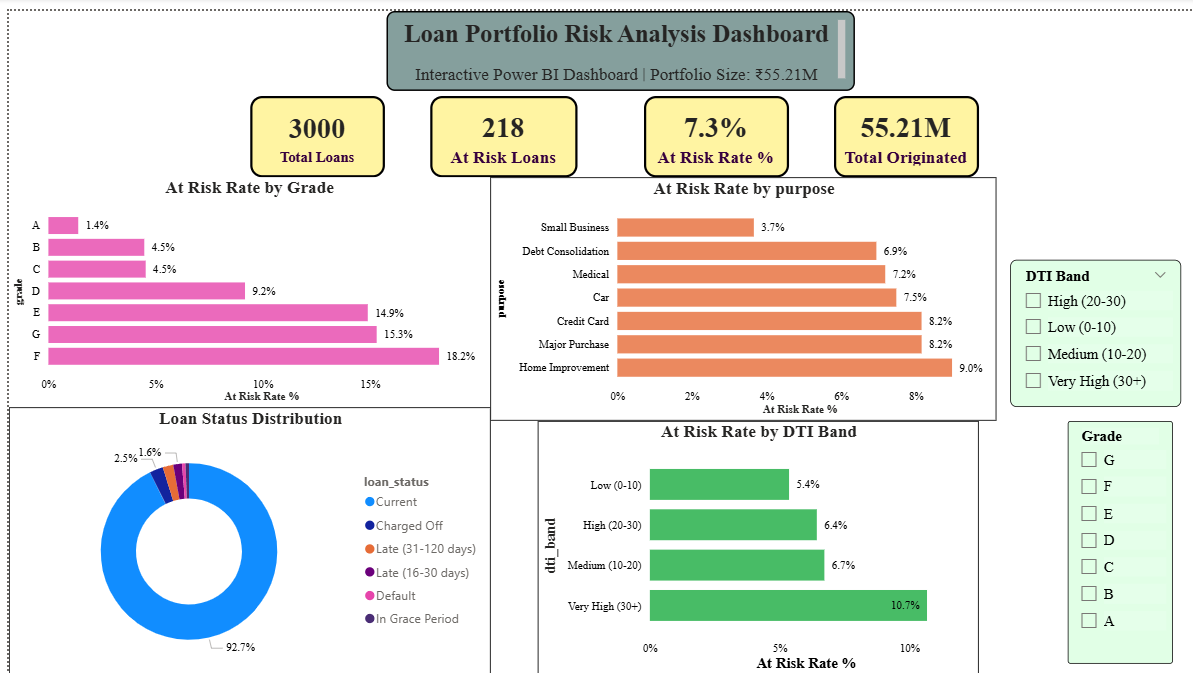

The page's visual inventory and layout, read from the dashboard file:
{"tool":"powerbi","page":{"name":"Risk Analysis","canvas":[1280,720],"ordinal":0},"visuals":[{"type":"card","fields":{"Values":["_Measures.Total Loans"]},"box":[260.8,91.9,145.9,87.8],"z":0},{"type":"card","fields":{"Values":["_Measures.At Risk Loans"]},"box":[455.4,91.9,159.5,87.8],"z":1000},{"type":"card","fields":{"Values":["_Measures.At Risk Rate %"]},"box":[686.5,91.9,156.8,87.8],"z":2000},{"type":"card","fields":{"Values":["Loan Detail.Total Originated"]},"box":[891.9,91.9,156.8,87.8],"z":3000},{"type":"clusteredBarChart","title":"At Risk Rate by Grade","fields":{"Y":["_Measures.At Risk Rate %"],"Category":["Loan Detail.grade"]},"box":[0,179.7,520.3,248.6],"z":4000},{"type":"clusteredBarChart","title":"At Risk Rate by purpose","fields":{"Category":["Loan Detail.purpose"],"Y":["_Measures.At Risk Rate %"]},"box":[520.3,179.7,547.3,263.5],"z":5000},{"type":"clusteredBarChart","title":"At Risk Rate by DTI Band","fields":{"Y":["_Measures.At Risk Rate %"],"Category":["Loan Detail.dti_band"]},"box":[571.6,435.1,477,285.1],"z":6000},{"type":"donutChart","title":"Loan Status Distribution","fields":{"Y":["_Measures.Total Loans"],"Category":["Loan Detail.loan_status"]},"box":[0,427.9,520.9,291.9],"z":7000},{"type":"slicer","fields":{"Values":["Loan Detail.dti_band"]},"box":[1082.4,268.9,185.1,159.5],"z":8000},{"type":"slicer","fields":{"Values":["Loan Detail.grade"]},"box":[1144.6,443.2,113.5,262.2],"z":9000},{"type":"textbox","box":[408.1,0,506.8,86.5],"z":10000}]}

Visuals, with their boxes in screenshot pixels (x1, y1, x2, y2), scaled from the page's 1280x720 canvas onto the 1193x673 screenshot:
card - _Measures.Total Loans: <box>243,86,379,168</box>
card - _Measures.At Risk Loans: <box>424,86,573,168</box>
card - _Measures.At Risk Rate %: <box>640,86,786,168</box>
card - Loan Detail.Total Originated: <box>831,86,977,168</box>
"At Risk Rate by Grade" clusteredBarChart: <box>0,168,485,400</box>
"At Risk Rate by purpose" clusteredBarChart: <box>485,168,995,414</box>
"At Risk Rate by DTI Band" clusteredBarChart: <box>533,407,977,672</box>
"Loan Status Distribution" donutChart: <box>0,400,485,672</box>
slicer - Loan Detail.dti_band: <box>1009,251,1181,400</box>
slicer - Loan Detail.grade: <box>1067,414,1173,659</box>
textbox: <box>380,0,853,81</box>
